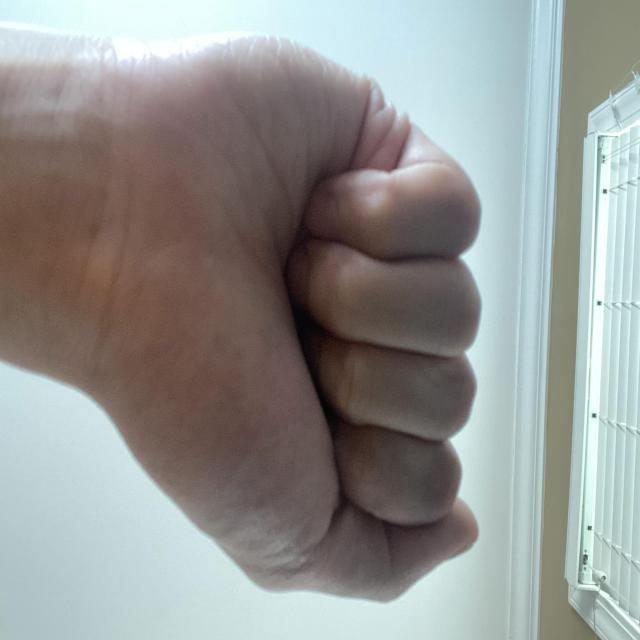A: (171, 210, 618, 640)
